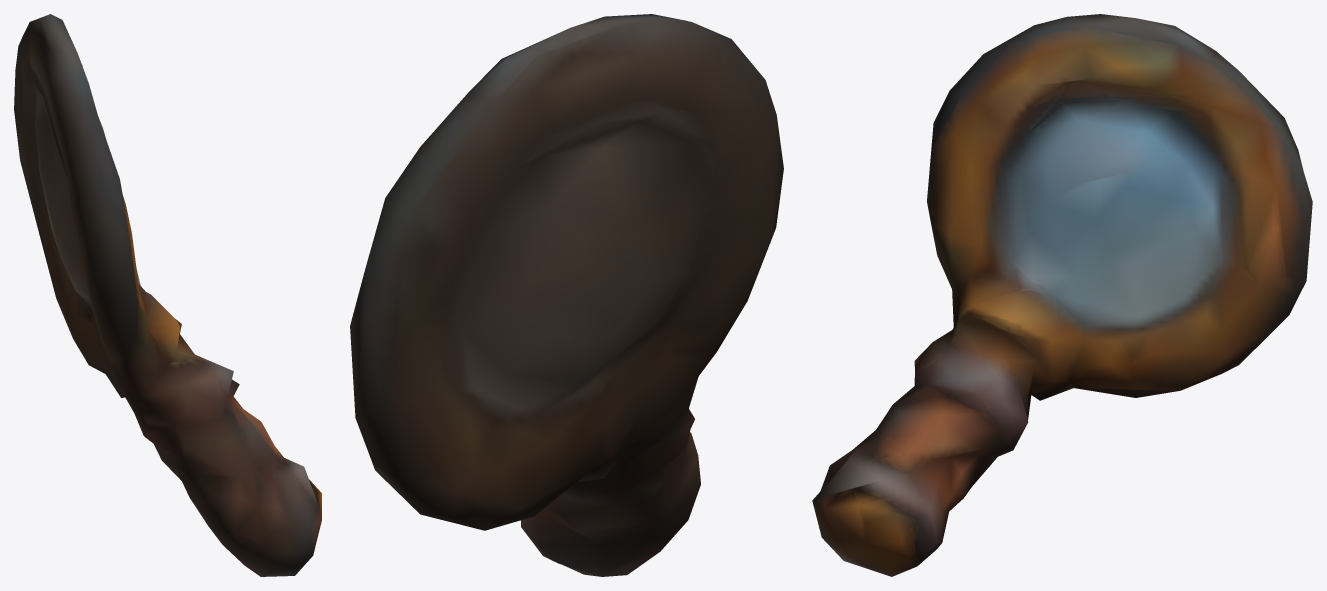
Rendered from prospectors_lens.glb.
The picture shows the model from 3 angles, left to right: view 1: azimuth 30°, elevation 25°; view 2: azimuth 150°, elevation 25°; view 3: azimuth 270°, elevation 25°; orthographic projection. The views are drawn at different scales.
Visible parts, largest first — view 1: model; view 2: model; view 3: model.
Boxes of the visible parts, x1,y1,x2,y2 form: model: (14, 14, 321, 576); model: (350, 14, 783, 576); model: (812, 14, 1312, 576).
Size of the model in its own units: 0.1691 by 0.3996 by 0.3596.
Materials: 1 (1 with a texture image).
